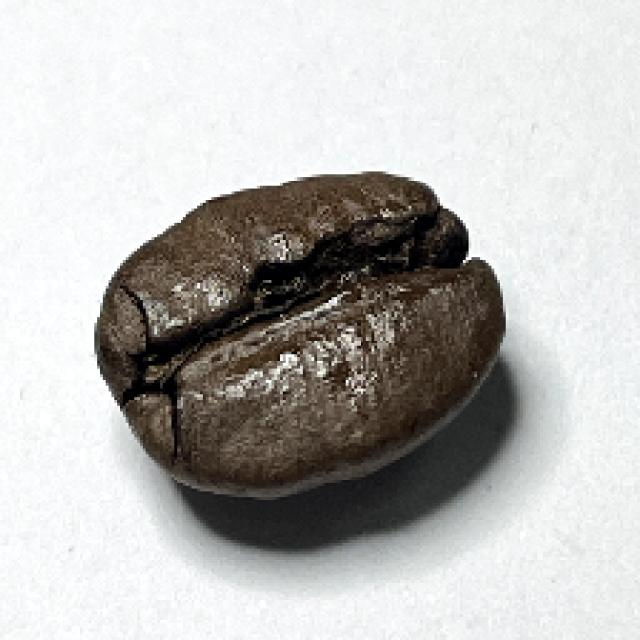bean: (92, 170, 507, 497)
